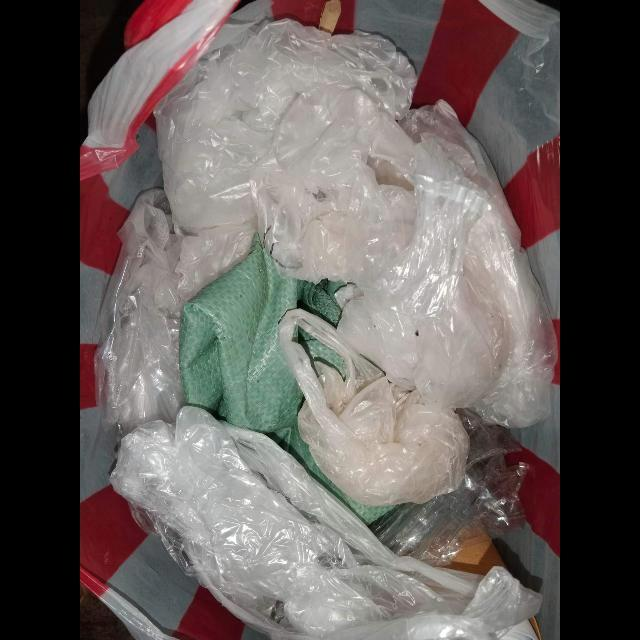plastic_bag: (154, 18, 558, 429), (110, 406, 545, 640), (94, 188, 254, 439), (278, 308, 470, 507)
